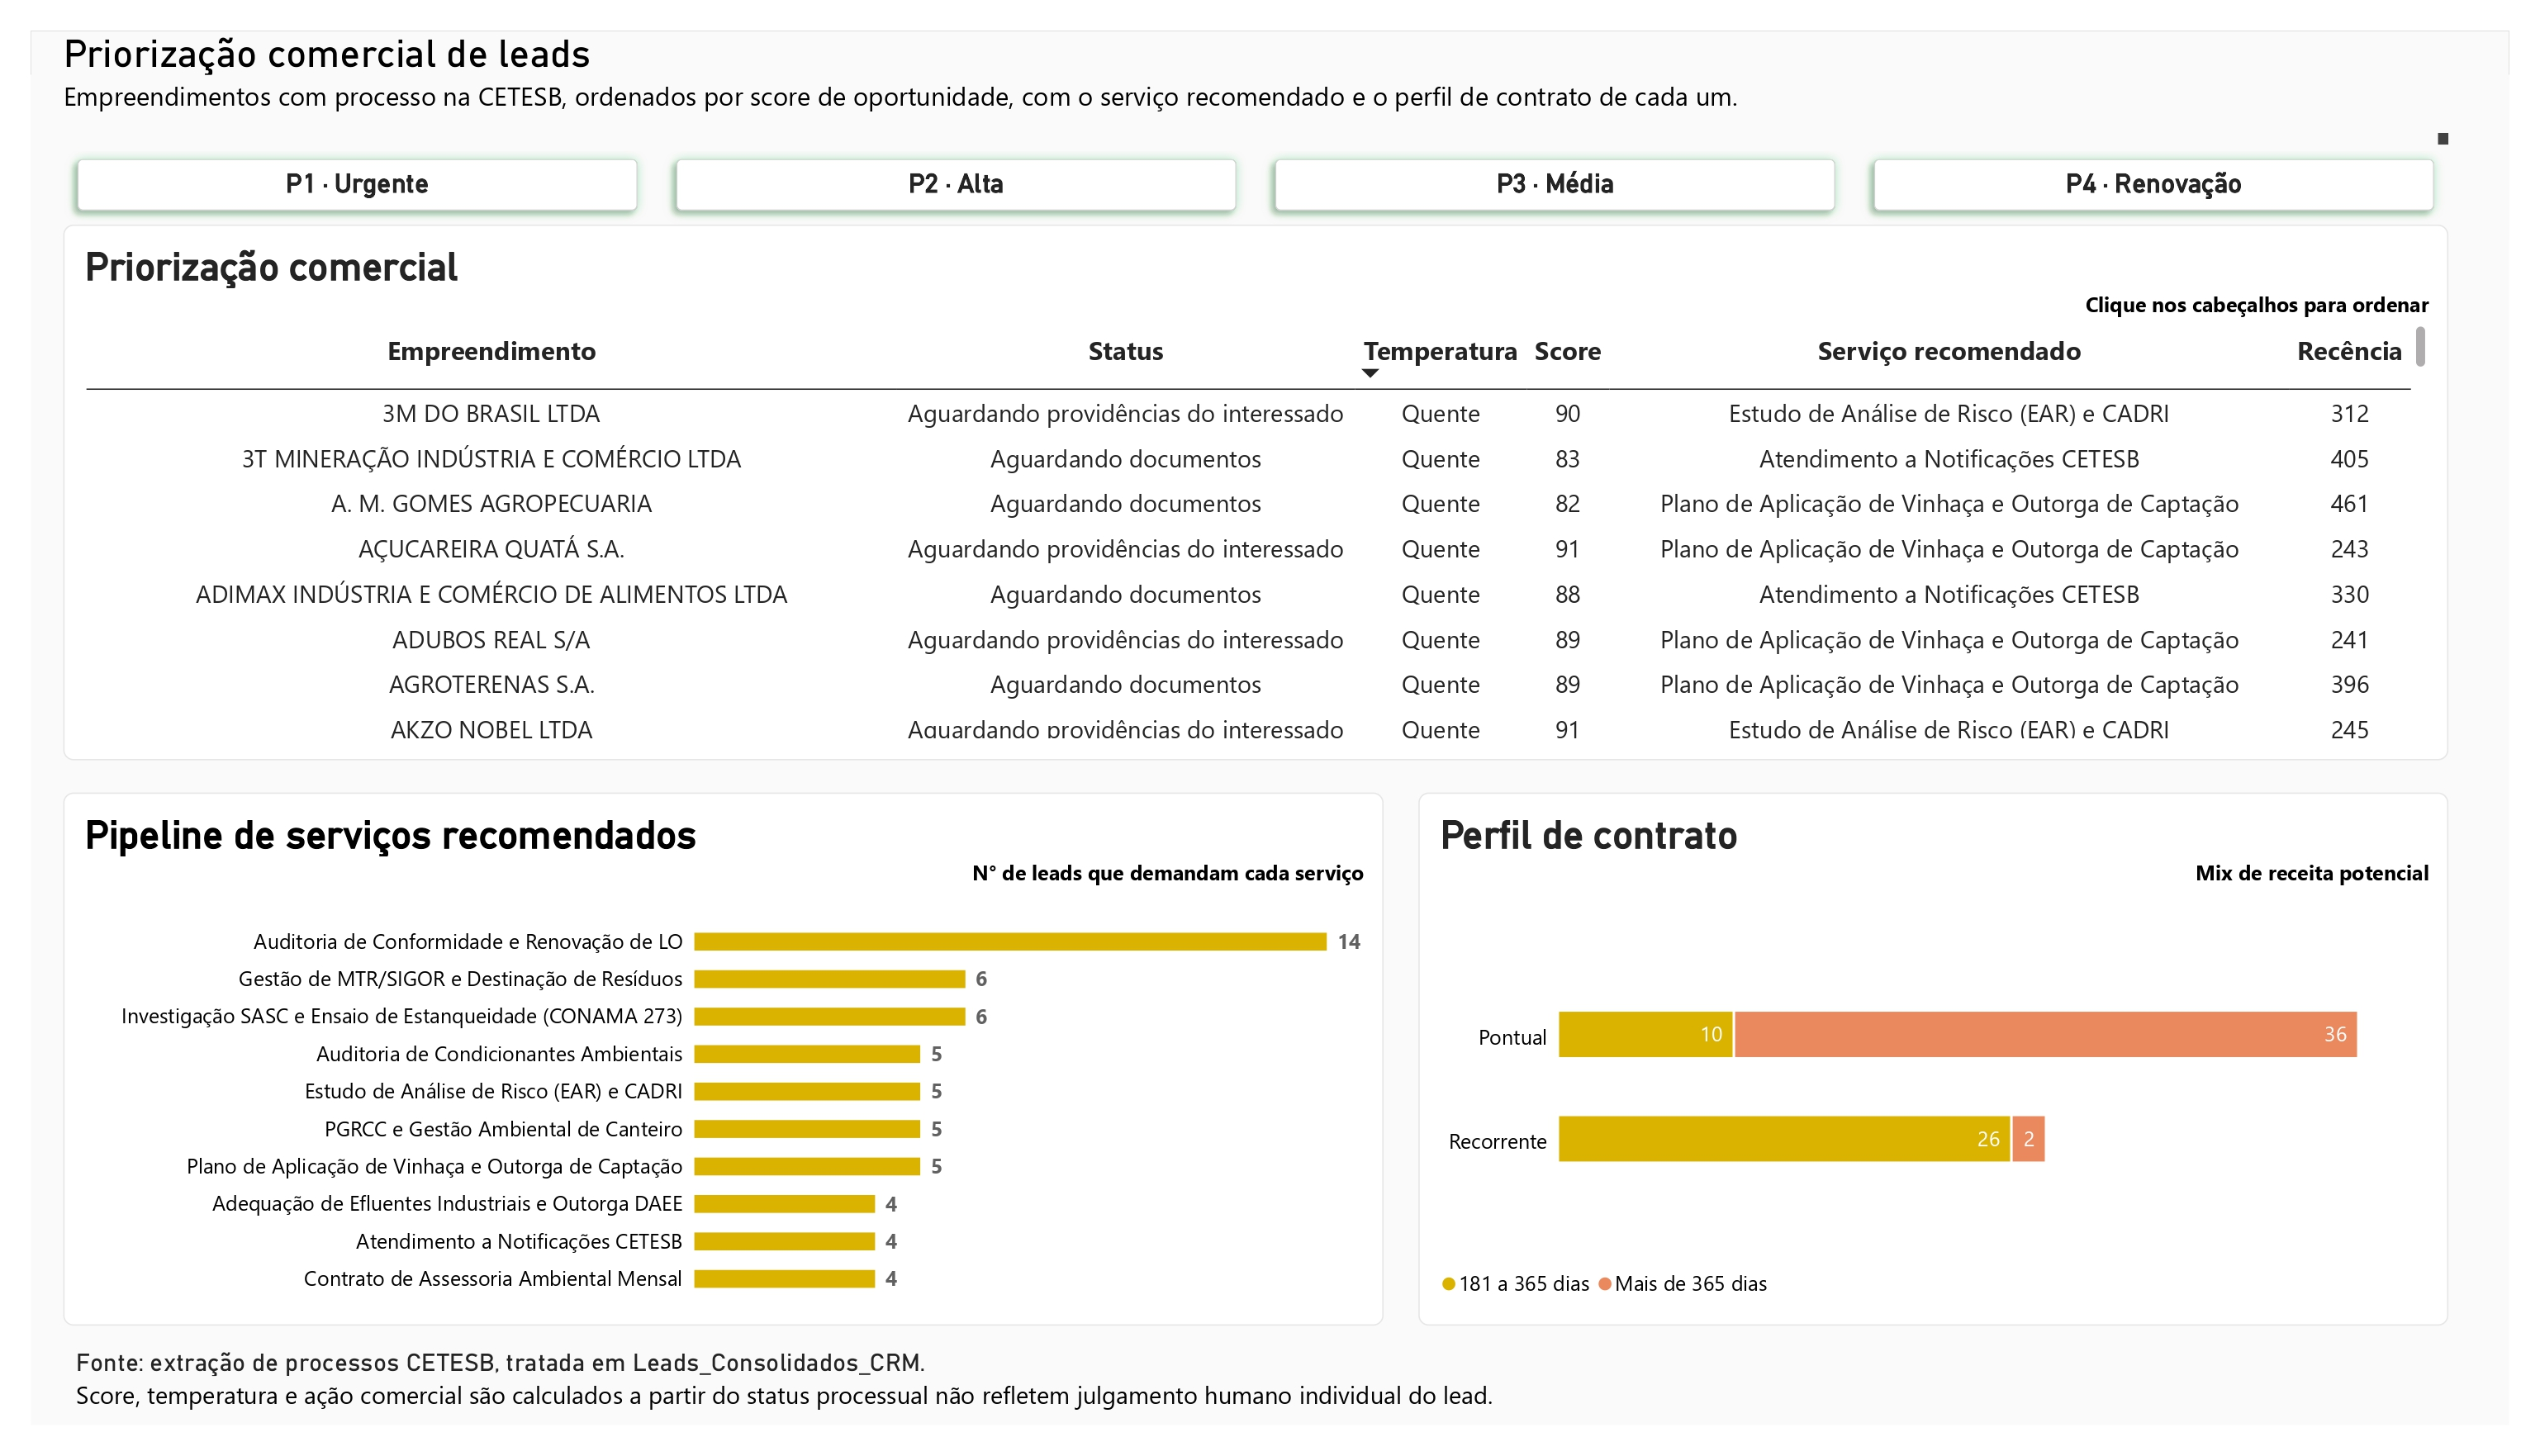

Layout of this report page (visuals, bound fields, positions):
{"tool":"powerbi","page":{"name":"Priorização Comercial","canvas":[1920,1080],"ordinal":1},"visuals":[{"type":"advancedSlicerVisual","fields":{"Values":["Leads_Consolidados_CRM.Prioridade_Label"]},"box":[25,87.5,1847.5,62.5],"z":0},{"type":"tableEx","title":"Priorização comercial","fields":{"Values":["Leads_Consolidados_CRM.Empreendimento","Leads_Consolidados_CRM.Status_Mais_Critico","Leads_Consolidados_CRM.Temperatura_Label","Leads_Consolidados_CRM.Score_Oportunidade","Leads_Consolidados_CRM.Servico_Chave_Recomendado","Leads_Consolidados_CRM.Recencia_Dias"]},"box":[25,150,1847.5,415],"z":1000},{"type":"clusteredBarChart","title":"Pipeline de serviços recomendados","fields":{"Category":["Leads_Consolidados_CRM.Servico_Chave_Recomendado"],"Y":["Leads_Consolidados_CRM.Total Leads"]},"box":[25,590,1022.5,412.5],"z":2000},{"type":"barChart","title":"Perfil de contrato","fields":{"Category":["Leads_Consolidados_CRM.Perfil_Label"],"Series":["Leads_Consolidados_CRM.Faixa_Label"],"Y":["Leads_Consolidados_CRM.Total Leads"]},"box":[1075,590,797.5,412.5],"z":3000},{"type":"textbox","title":"Fonte: extração de processos CETESB, tratada em Leads_Consolidados_CRM. ","box":[35,1020,1837.5,60],"z":4000},{"type":"textbox","title":"Priorização comercial de leads","box":[25,0,1847.5,87.5],"z":5000}]}

Visuals, with their boxes on the page's 1920x1080 design canvas (x1, y1, x2, y2). These are canvas units, not pixel positions in the 2540x1456 screenshot, which may show the page scaled, cropped or inside an application window:
advancedSlicerVisual - Leads_Consolidados_CRM.Prioridade_Label: (x1=25, y1=88, x2=1872, y2=150)
"Priorização comercial" tableEx: (x1=25, y1=150, x2=1872, y2=565)
"Pipeline de serviços recomendados" clusteredBarChart: (x1=25, y1=590, x2=1048, y2=1002)
"Perfil de contrato" barChart: (x1=1075, y1=590, x2=1872, y2=1002)
"Fonte: extração de processos CETESB, tratada em Leads_Consolidados_CRM. " textbox: (x1=35, y1=1020, x2=1872, y2=1080)
"Priorização comercial de leads" textbox: (x1=25, y1=0, x2=1872, y2=88)
